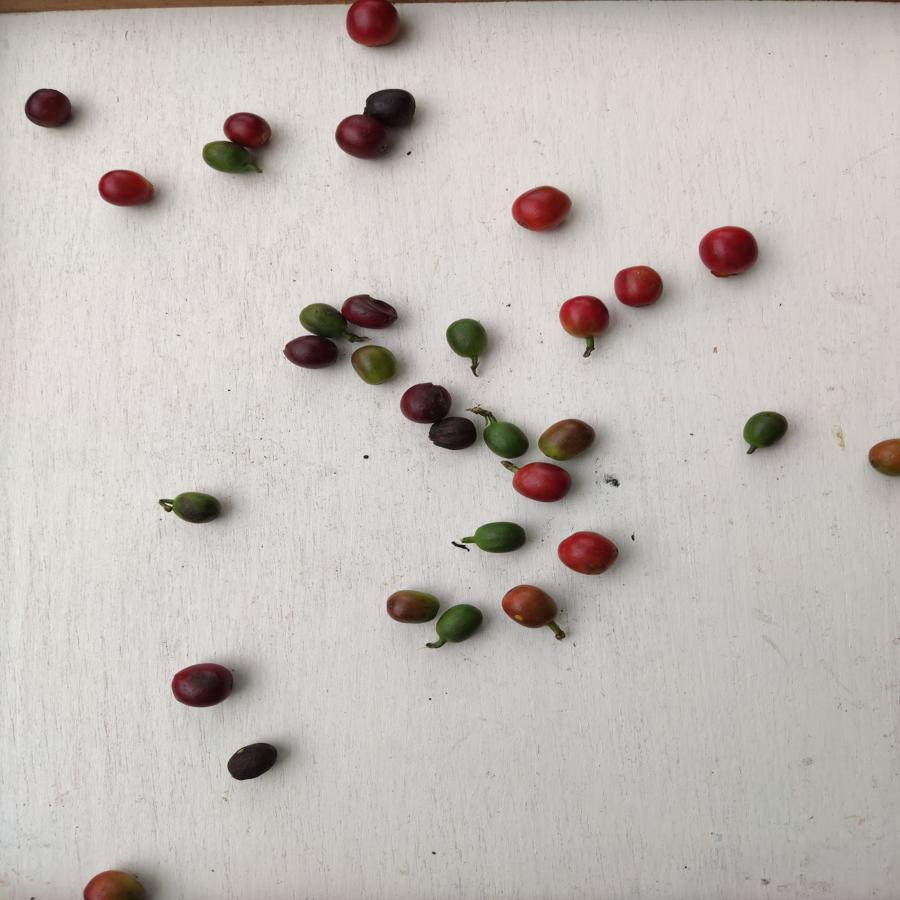Inmaduro: (197, 140, 259, 182), (441, 317, 492, 361), (740, 410, 792, 453), (469, 520, 532, 553), (168, 491, 226, 526), (481, 420, 531, 459), (438, 604, 484, 645), (299, 304, 345, 338)
Maduro: (694, 226, 763, 278), (555, 529, 621, 578), (343, 2, 409, 51), (512, 184, 571, 230), (512, 462, 574, 504), (557, 293, 611, 338), (610, 264, 665, 308), (99, 168, 156, 210)
Pinton: (498, 583, 562, 631), (536, 417, 596, 459), (382, 586, 443, 626), (81, 869, 153, 900), (349, 344, 398, 386), (870, 433, 900, 483)
Sobremaduro: (172, 661, 237, 708), (220, 740, 284, 782), (333, 115, 389, 161), (20, 87, 76, 130), (398, 380, 453, 423), (422, 415, 481, 453), (283, 336, 341, 374), (343, 293, 397, 331), (363, 89, 415, 128), (224, 111, 277, 145)
